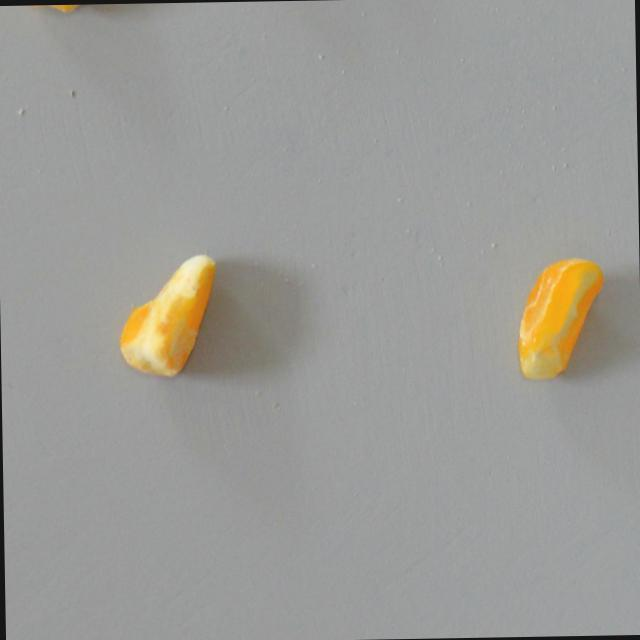dañado: (505, 250, 613, 391), (116, 248, 223, 381), (21, 4, 105, 19)
